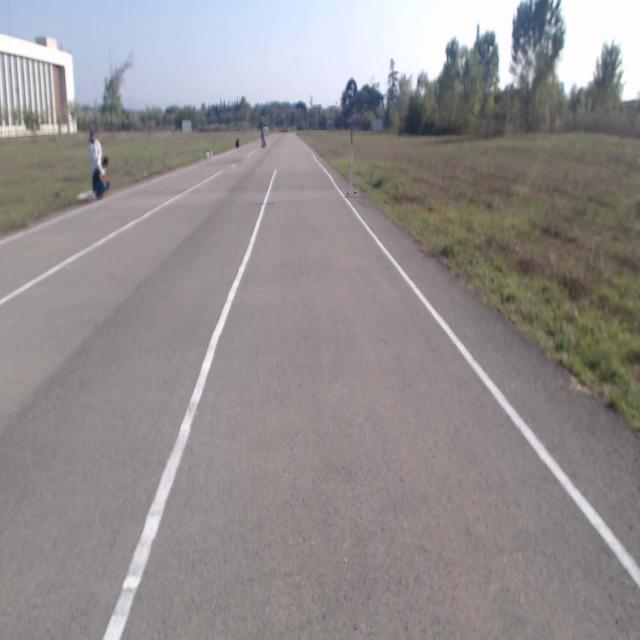ilerisol: (346, 78, 356, 99)
